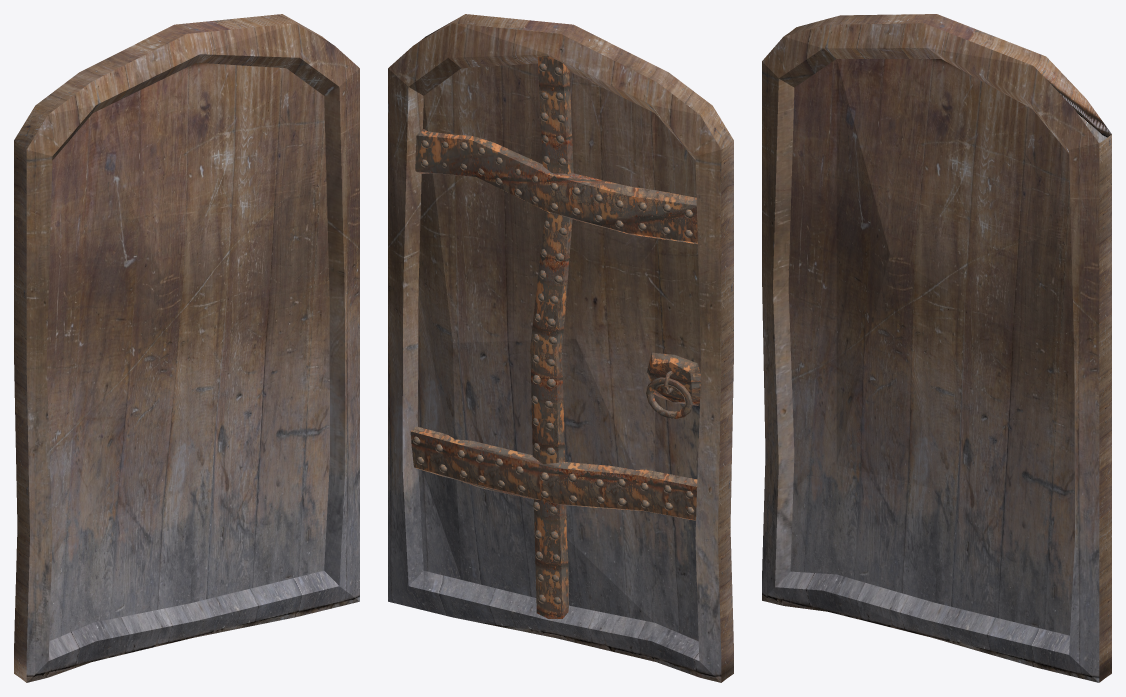
The model's file is DoorTest.FBX.
3 renders of one model, left to right at view 1: azimuth 30°, elevation 25°; view 2: azimuth 150°, elevation 25°; view 3: azimuth 330°, elevation 25°, orthographic.
Visible parts, largest first — view 1: DoorBase; view 2: DoorBase, Sphere047, Handle; view 3: DoorBase.
Boxes of the visible parts, bbox=[...] form: DoorBase: bbox=[14, 14, 359, 682]; DoorBase: bbox=[388, 14, 733, 682]; Sphere047: bbox=[413, 63, 694, 604]; Handle: bbox=[646, 377, 692, 418]; DoorBase: bbox=[762, 14, 1111, 682].
Bounding box in the file's own units: 80.4 × 141 × 12.21.
